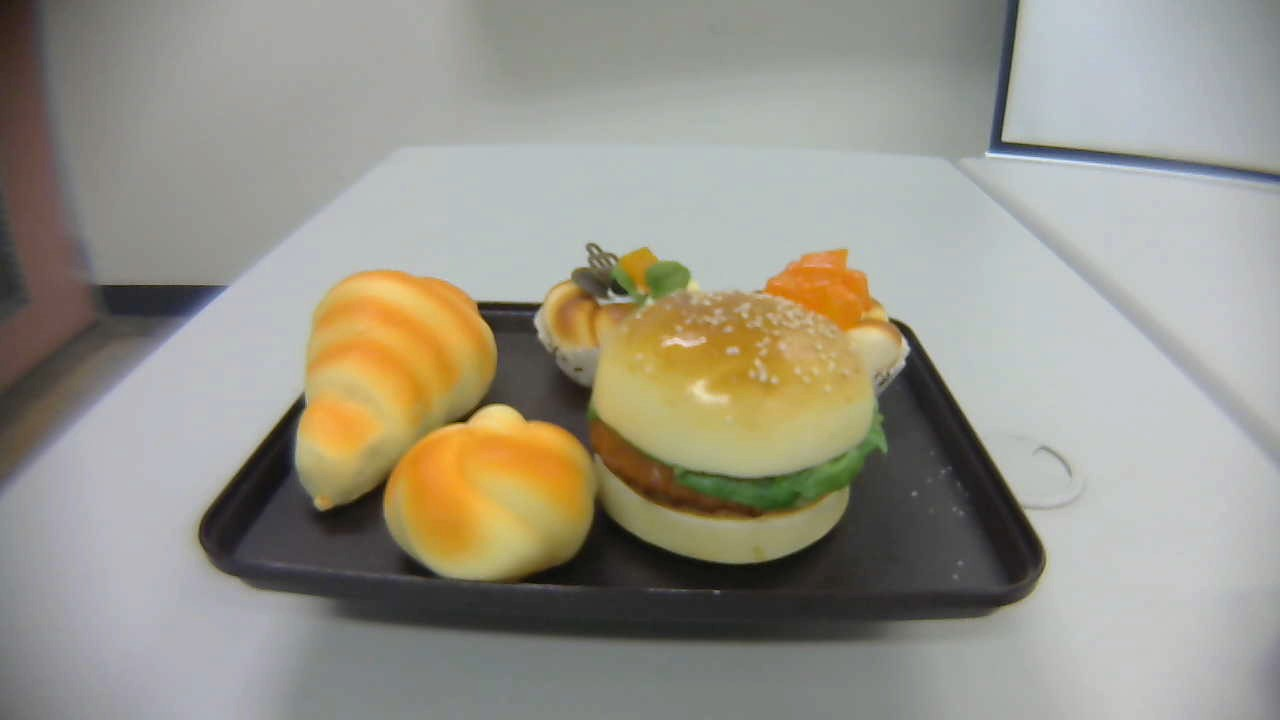croissant: (295, 267, 498, 511)
fruit tart: (533, 240, 700, 388)
hamburger: (588, 290, 885, 566)
mango tart: (752, 249, 908, 406)
twist bread: (382, 401, 598, 579)
